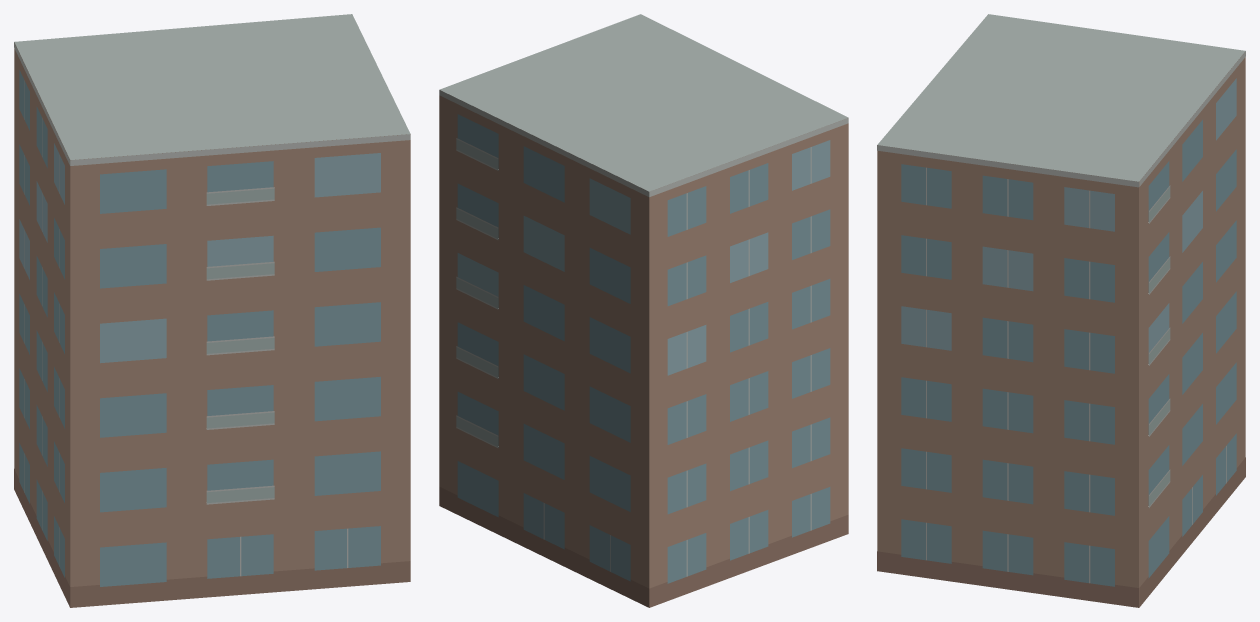
The model's file is survey-upis-33012598.glb.
3 views of the same model, side by side, from view 1: azimuth 30°, elevation 25°; view 2: azimuth 150°, elevation 25°; view 3: azimuth 270°, elevation 25° (orthographic). The views are drawn at different scales.
Visible parts, largest first — view 1: survey-upis-33012598.tmp; view 2: survey-upis-33012598.tmp; view 3: survey-upis-33012598.tmp.
Part boxes in pixels (x1,y1,x2,y2): survey-upis-33012598.tmp: [14, 14, 410, 607]; survey-upis-33012598.tmp: [439, 14, 848, 607]; survey-upis-33012598.tmp: [877, 14, 1245, 607].
Size of the model in its own units: 15.46 by 18.3 by 14.36.
